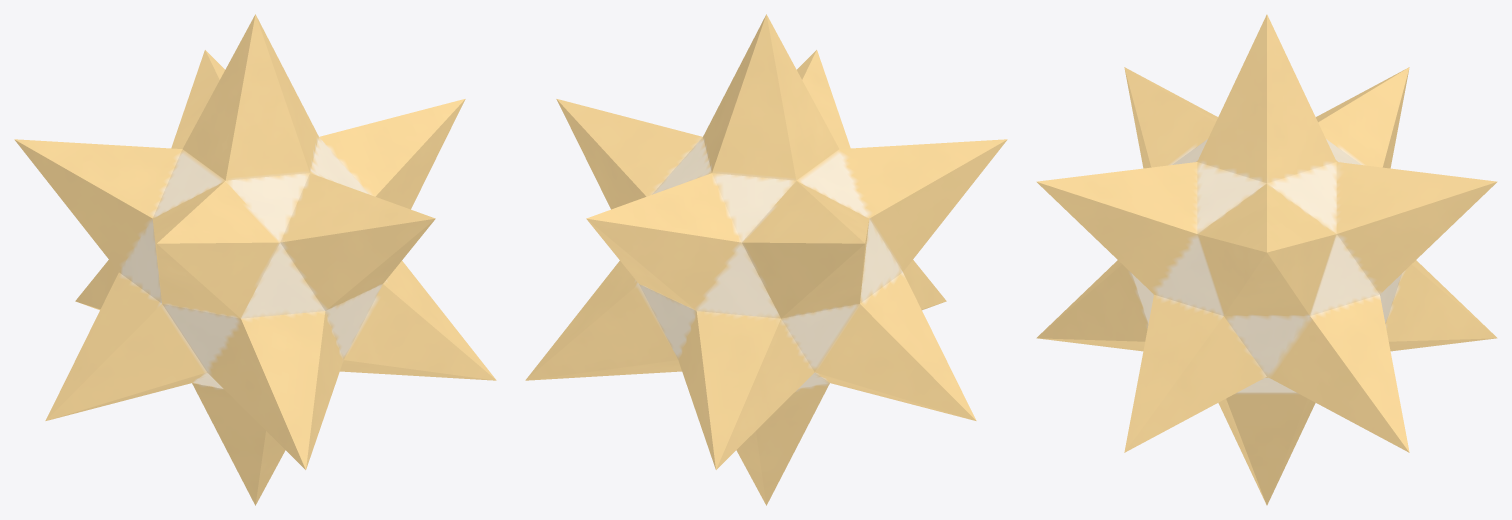
File: star-crown.glb
3 renders of one model, left to right at view 1: azimuth 30°, elevation 25°; view 2: azimuth 150°, elevation 25°; view 3: azimuth 270°, elevation 25°, orthographic.
Visible parts, largest first — view 1: Star_Crown; view 2: Star_Crown; view 3: Star_Crown.
Boxes of the visible parts, x1,y1,x2,y2 form: Star_Crown: (14,14,496,505); Star_Crown: (525,14,1007,505); Star_Crown: (1036,14,1497,505).
Bounding box in the file's own units: 3.13 × 3.5 × 2.98.
1 material, 1 textured.
